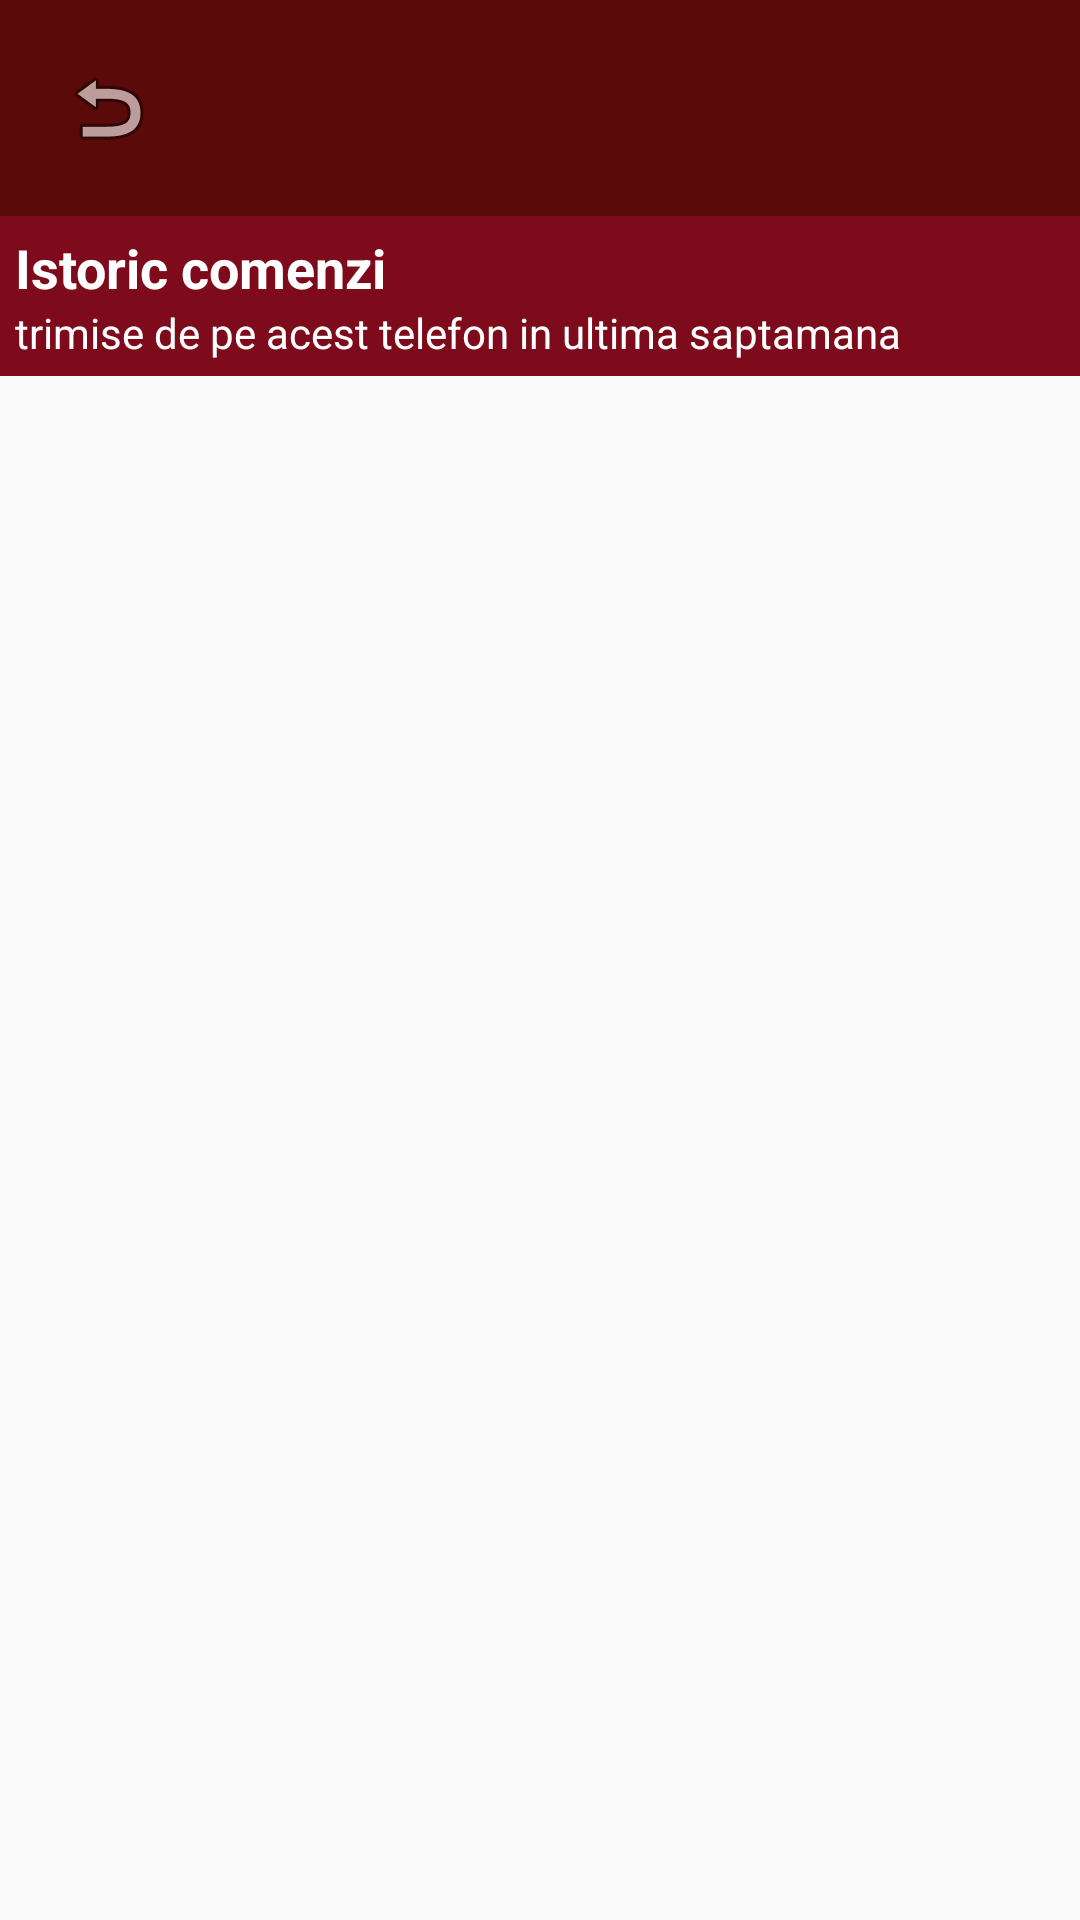

Icons on this 1080x1920 Android screen, each with the point to tap as point (x, y):
revert: point (109, 108)
